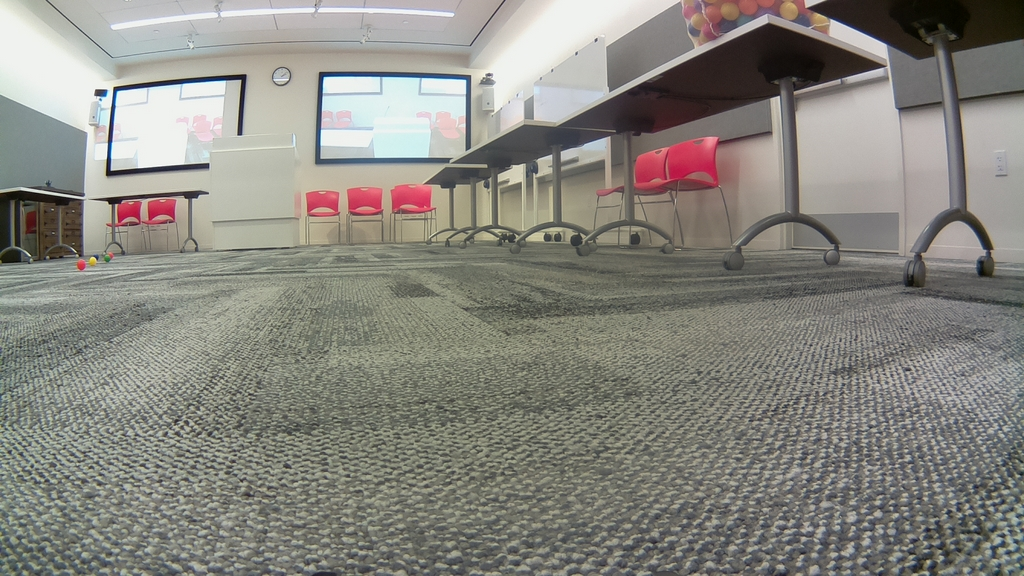ball: (89, 256, 97, 267)
